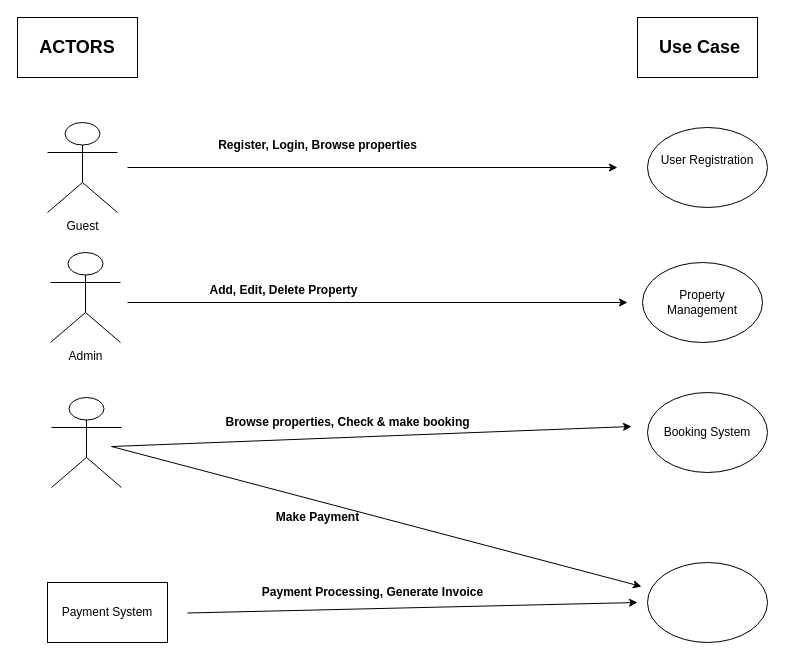
The diagram is 785 pixels wide and 660 high, and some of its shapes have lost their labels. The centre of each missing label's shape, as x and y in pixels:
Payment: (707,602)
Registered User: (86,442)
